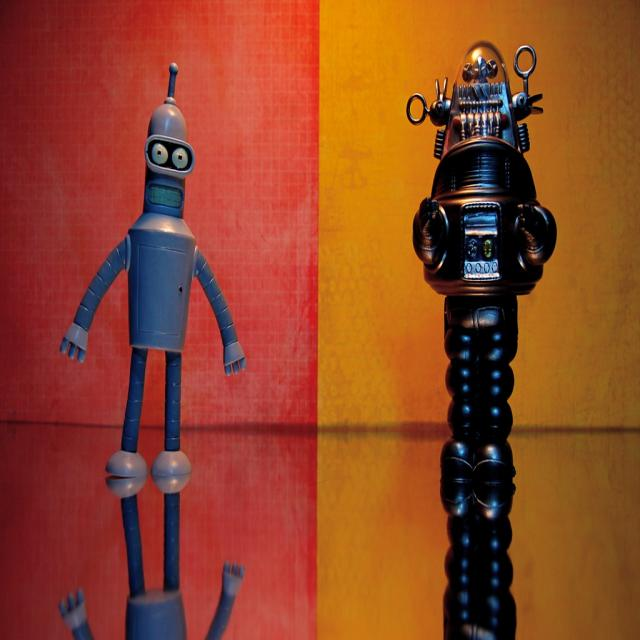Toy: (407, 40, 564, 584), (53, 63, 249, 483)
